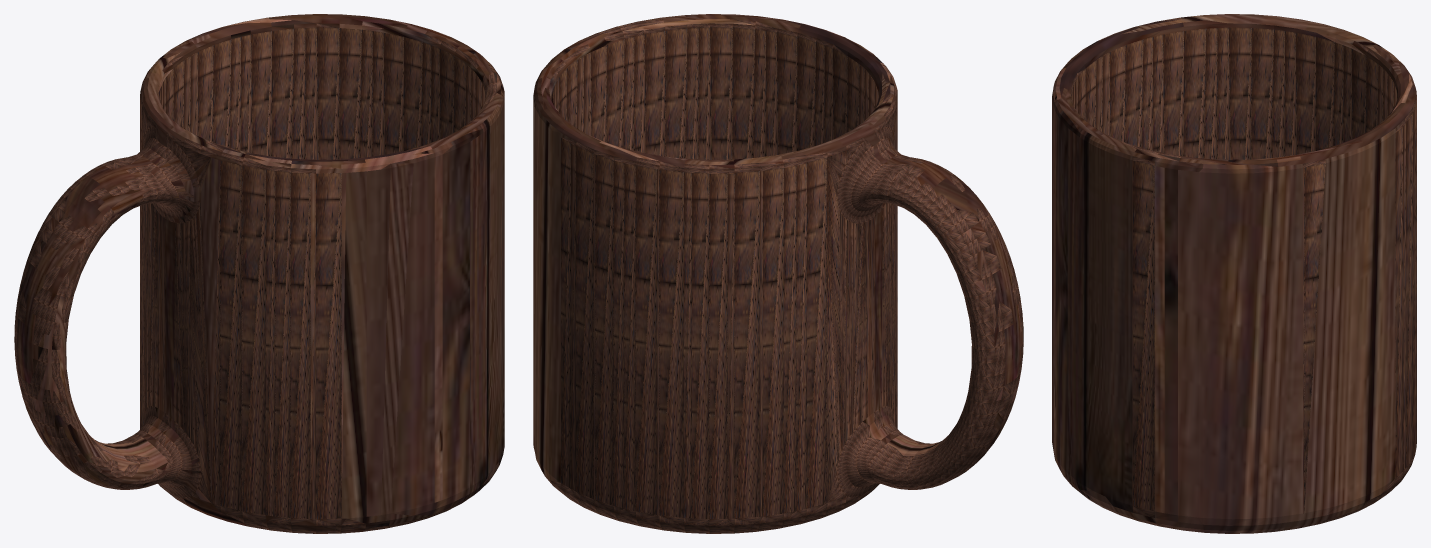
Rendered from cup.glb.
3 views of the same model, side by side, from view 1: azimuth 30°, elevation 25°; view 2: azimuth 150°, elevation 25°; view 3: azimuth 270°, elevation 25° (orthographic).
Parts seen in each view (by area): view 1: Cup; view 2: Cup; view 3: Cup.
Boxes of the visible parts, x1,y1,x2,y2 form: Cup: (14,14,504,533); Cup: (533,14,1023,533); Cup: (1052,14,1416,533).
Bounding box in the file's own units: 129 × 102 × 88.9.
1 material, 1 textured.
